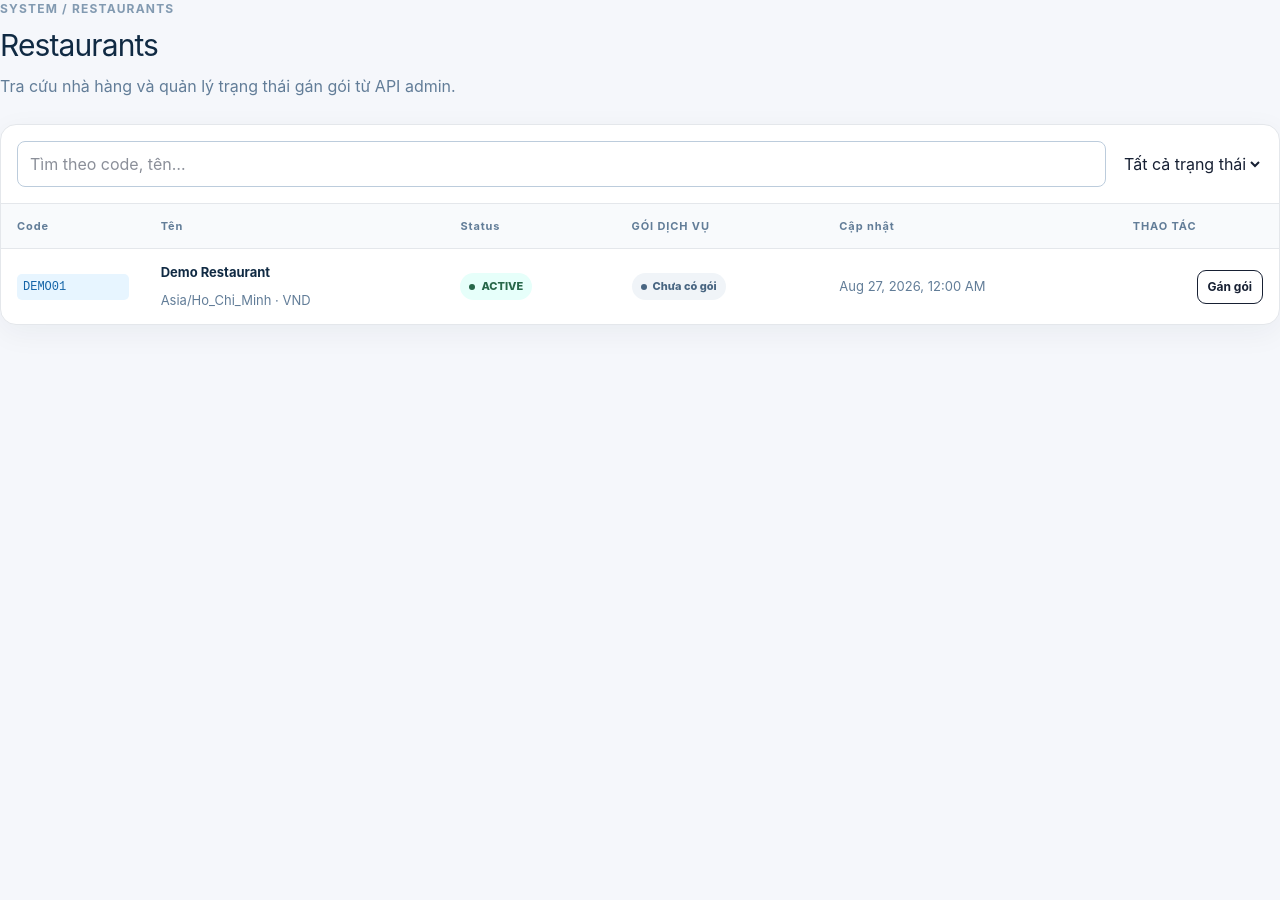
Scenario: restaurant package assignment actions › creates PENDING with UTC dates, refetches, and prevents a duplicate submit
The image size is (1280, 900).
Click the button "Gán gói" at point(1230, 287), box [1196,270,1263,304]
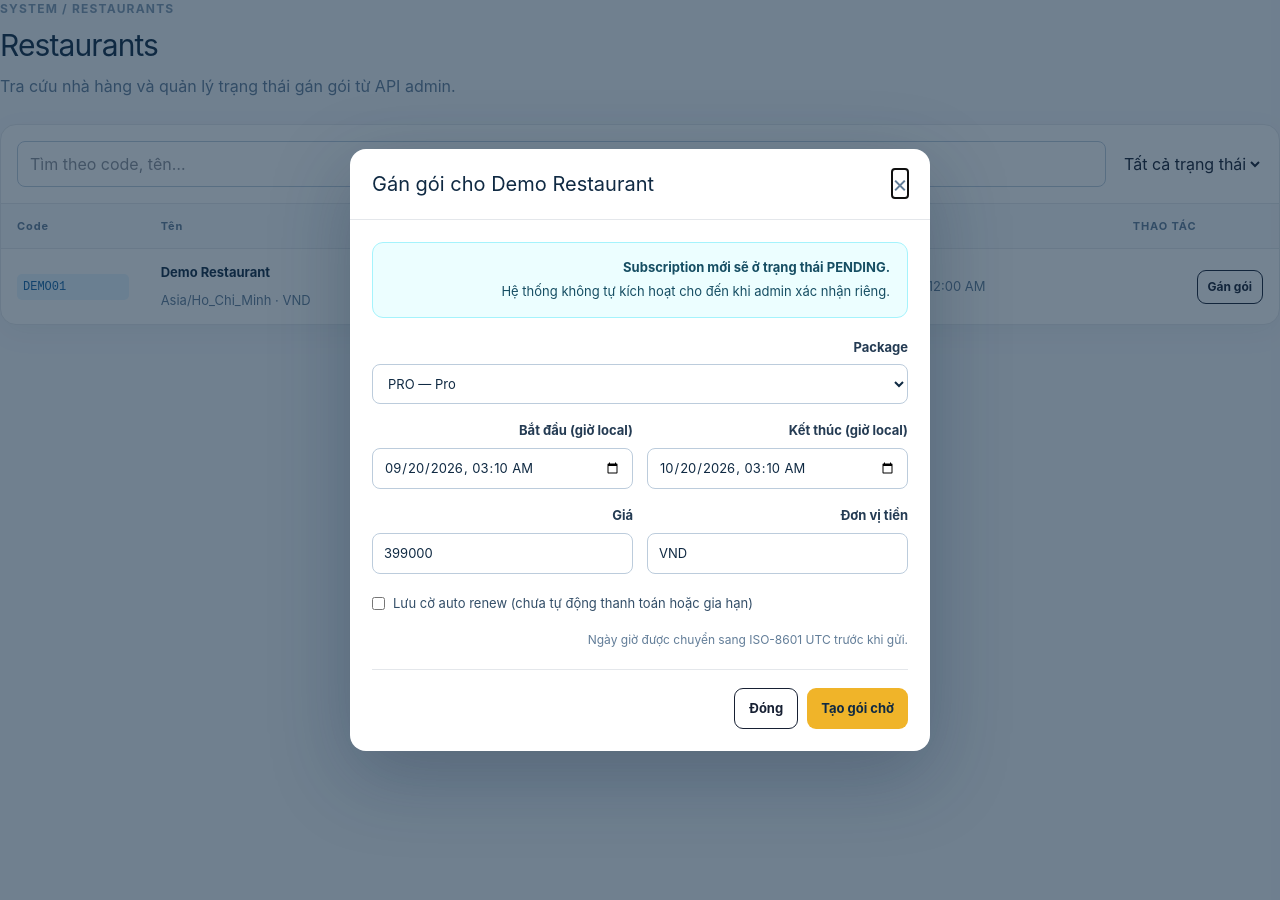
Expected: the dropdown labelled "Package" is shown, [372,364,908,404]
Double-click the button "Tạo gói chờ" at point(858, 709), box [807,688,908,729]
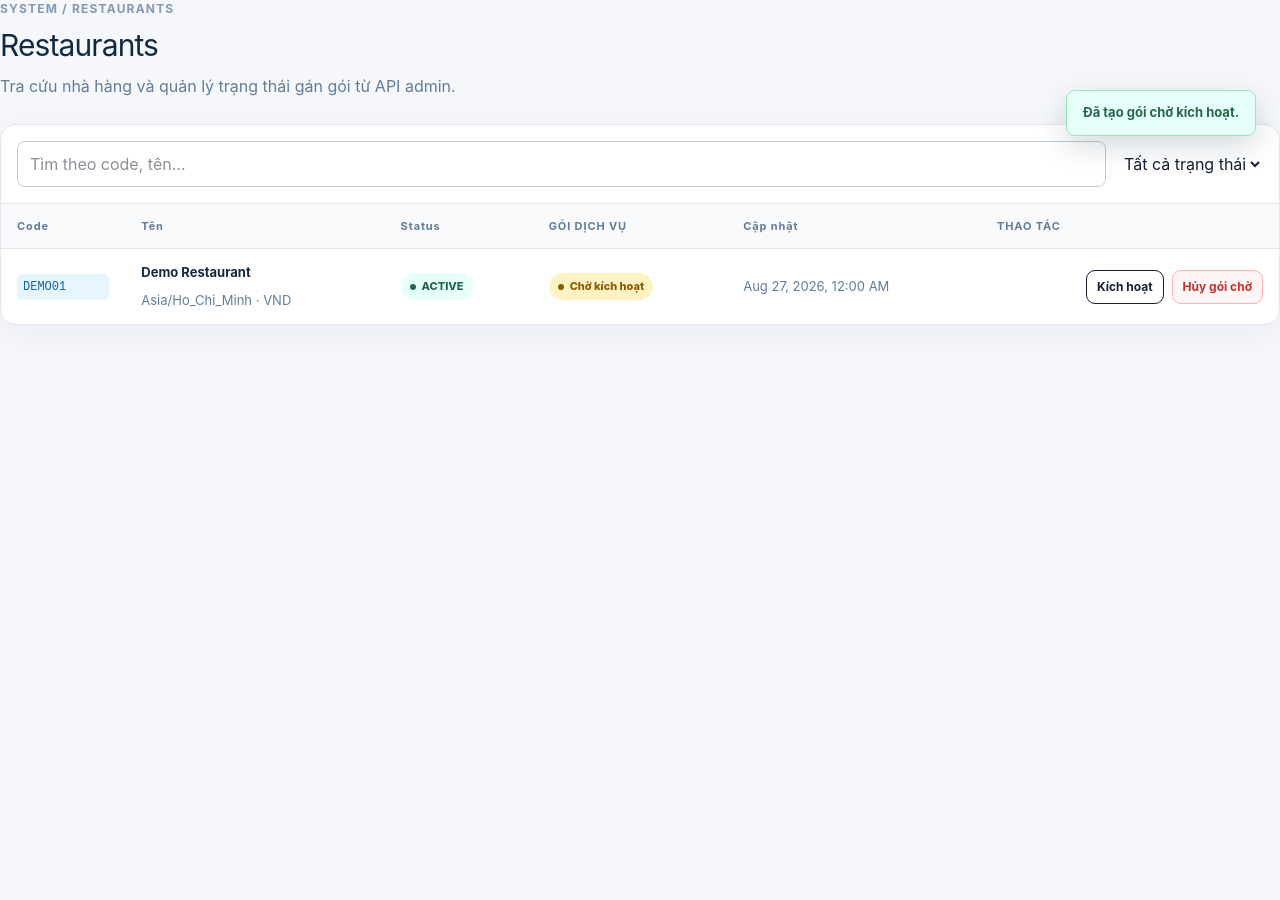
Expected: the text "Chờ kích hoạt" is shown, [549,273,653,300]
Expected: the message reads "Đã tạo gói chờ kích hoạt.", [1083,104,1239,120]
